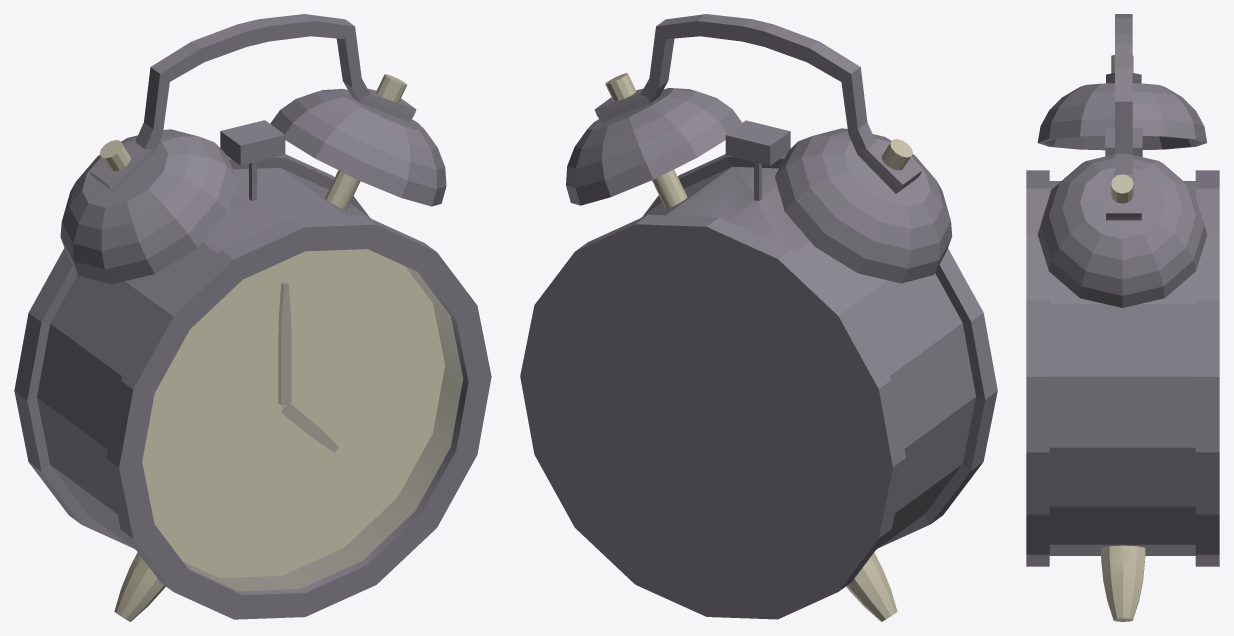
File: alarmTest_fbx.fbx
The picture shows the model from 3 angles, left to right: view 1: azimuth 30°, elevation 25°; view 2: azimuth 150°, elevation 25°; view 3: azimuth 270°, elevation 25°; orthographic projection. The views are drawn at different scales.
Parts seen in each view (by area): view 1: AlarmFinished2; view 2: AlarmFinished2; view 3: AlarmFinished2.
Boxes of the visible parts, box(x1,y1,x2,y2) form: AlarmFinished2: box(14, 14, 491, 621); AlarmFinished2: box(520, 14, 997, 621); AlarmFinished2: box(1026, 14, 1219, 621).
Size of the model in its own units: 0.7408 by 1.07 by 0.3608.
